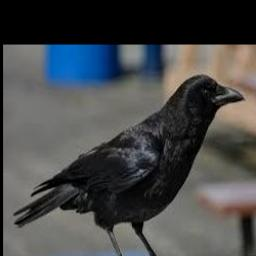Crow: (14, 73, 246, 256)
